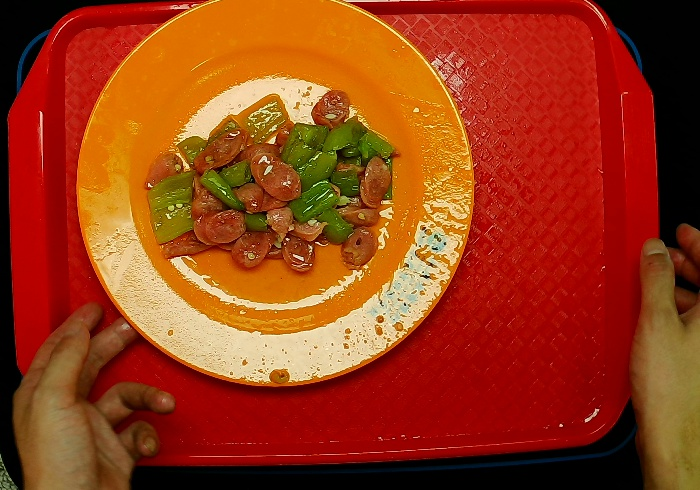YKMZ-Ju_Se_Mian_Pan: (70, 1, 474, 394)
